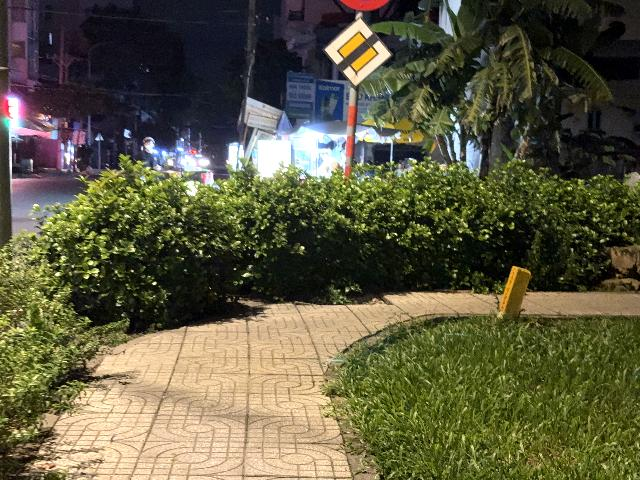het-duong-uu-tien: (323, 15, 395, 91)
